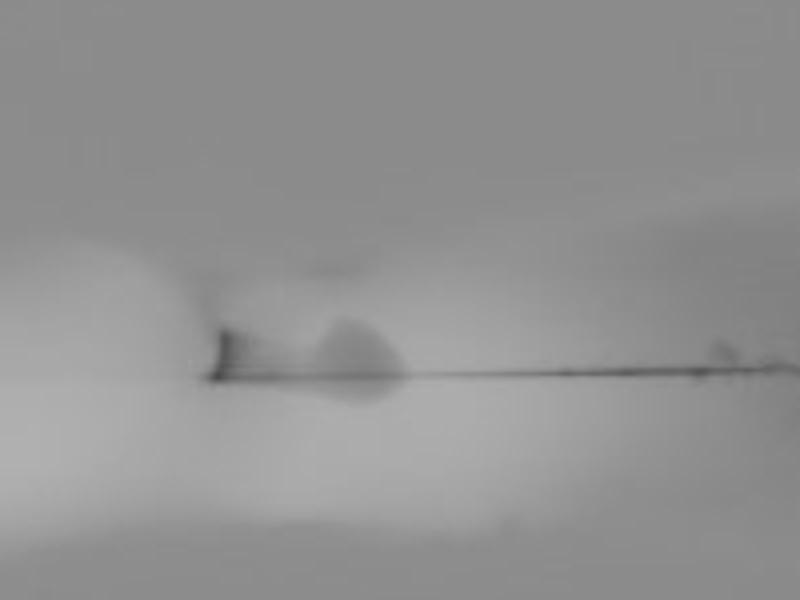defect: (312, 322, 406, 406), (708, 334, 743, 366)
